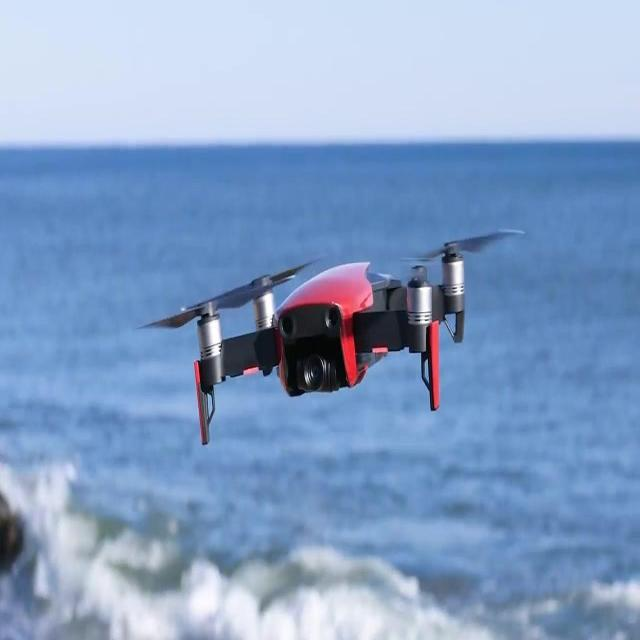drone: (138, 226, 527, 445)
